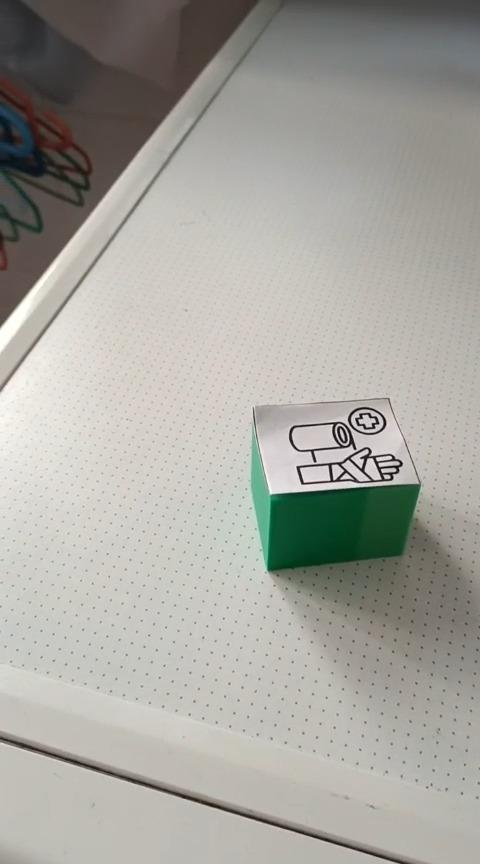Bandages: (250, 397, 423, 574)
